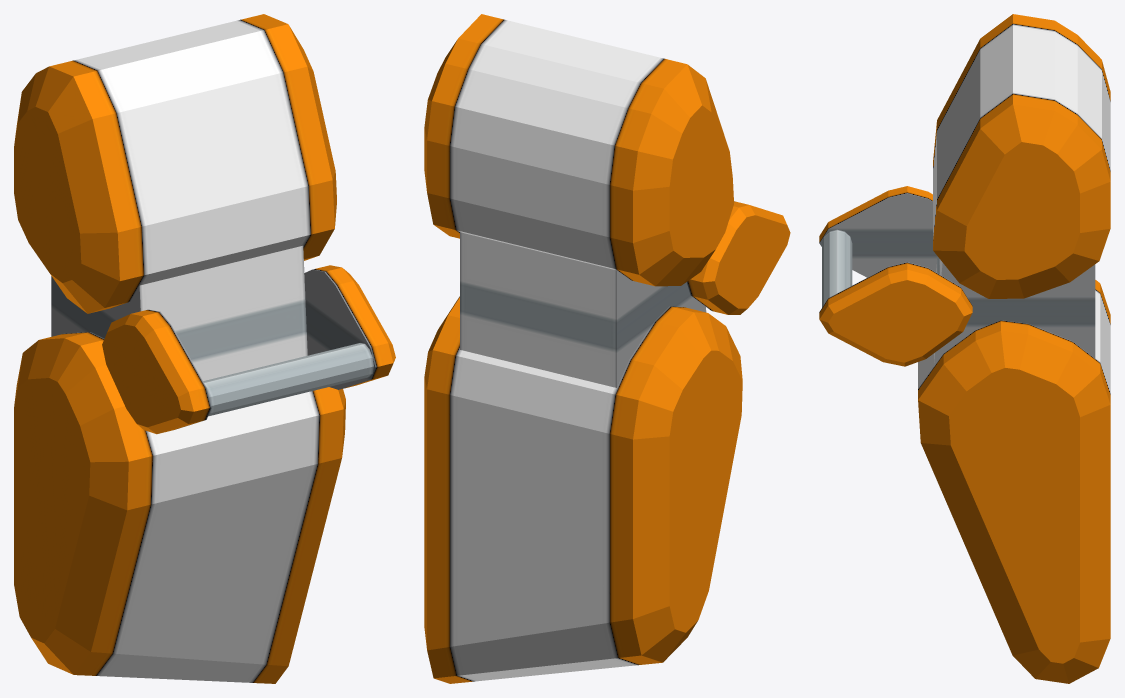
The model's file is R_ANKLE_P_S.dae.
3 views of the same model, side by side, from view 1: azimuth 30°, elevation 25°; view 2: azimuth 150°, elevation 25°; view 3: azimuth 270°, elevation 25° (orthographic). The views are drawn at different scales.
Visible parts, largest first — view 1: root; view 2: root; view 3: root.
Boxes of the visible parts, <box> form: root: <box>14,14,395,683</box>; root: <box>424,14,790,683</box>; root: <box>819,14,1110,683</box>.
Bounding box in the file's own units: 0.1 × 0.2522 × 0.1147.
Materials: 1 (1 with a texture image).
